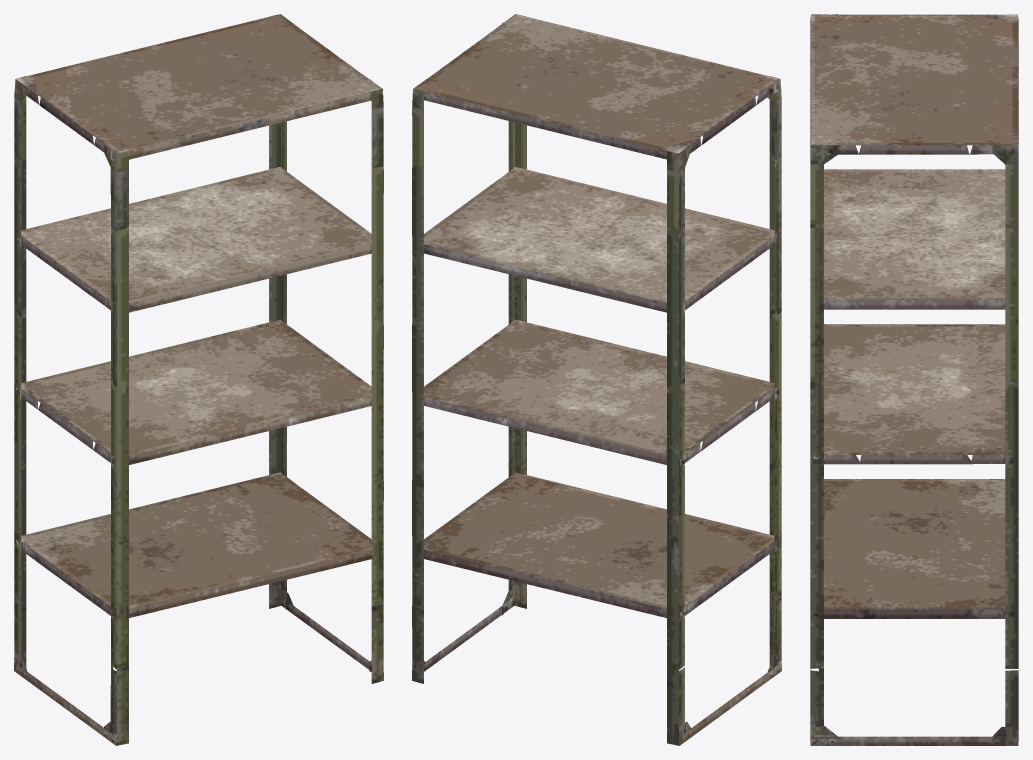
Rendered from worn_metal_rack.glb.
3 renders of one model, left to right at view 1: azimuth 30°, elevation 25°; view 2: azimuth 150°, elevation 25°; view 3: azimuth 270°, elevation 25°, orthographic.
Parts seen in each view (by area): view 1: mesh; view 2: mesh; view 3: mesh.
Boxes of the visible parts, box(x1,y1,x2,y2) form: mesh: box(14, 14, 383, 745); mesh: box(412, 14, 781, 745); mesh: box(810, 14, 1018, 745).
Bounding box in the file's own units: 0.9062 × 1.9 × 0.5972.
Materials: 1 (1 with a texture image).
